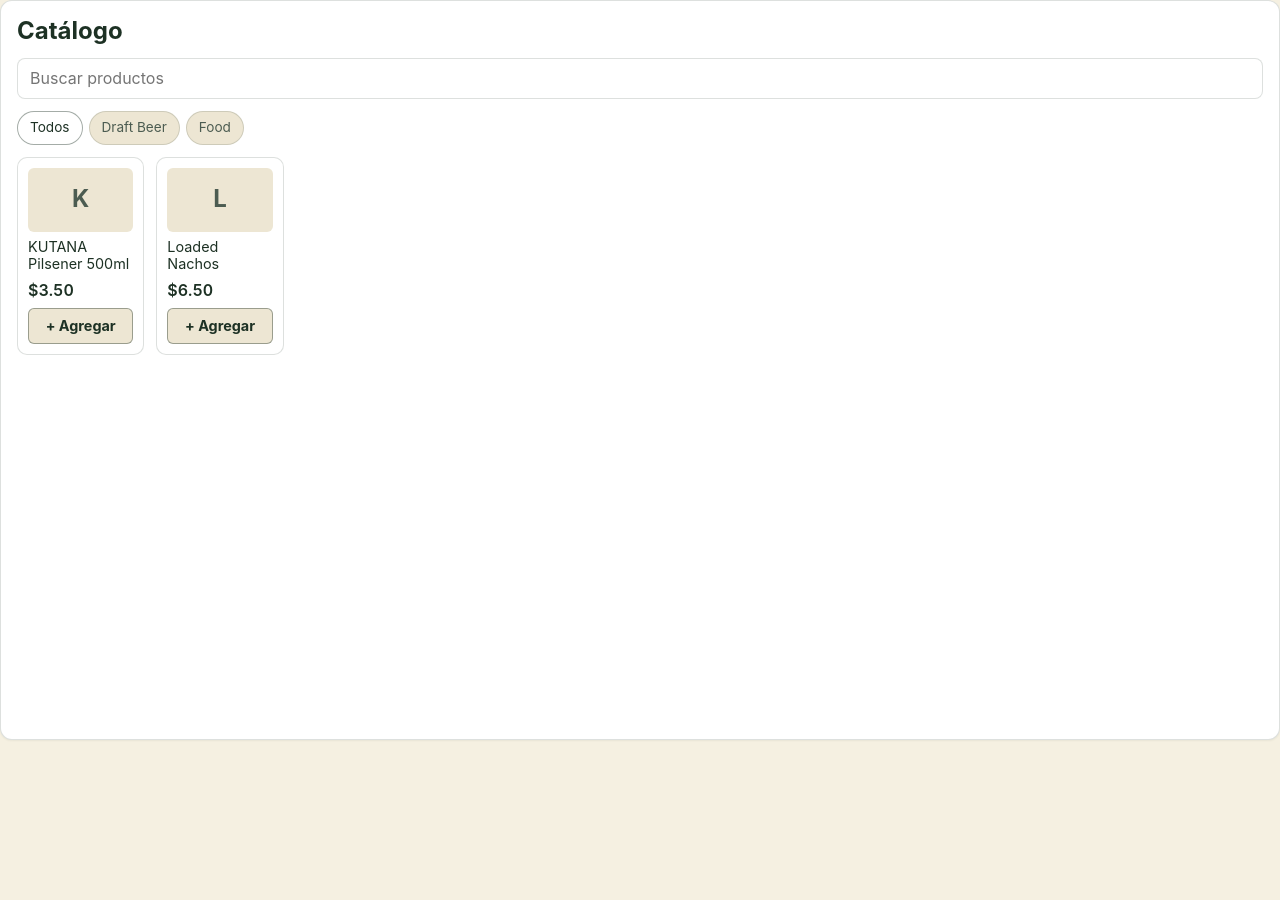
Test: AddItemPanel › narrows the visible product tiles as the search input is typed
In the search field labelled "Buscar productos": (640, 78) [17,58,1263,99], type "nach"
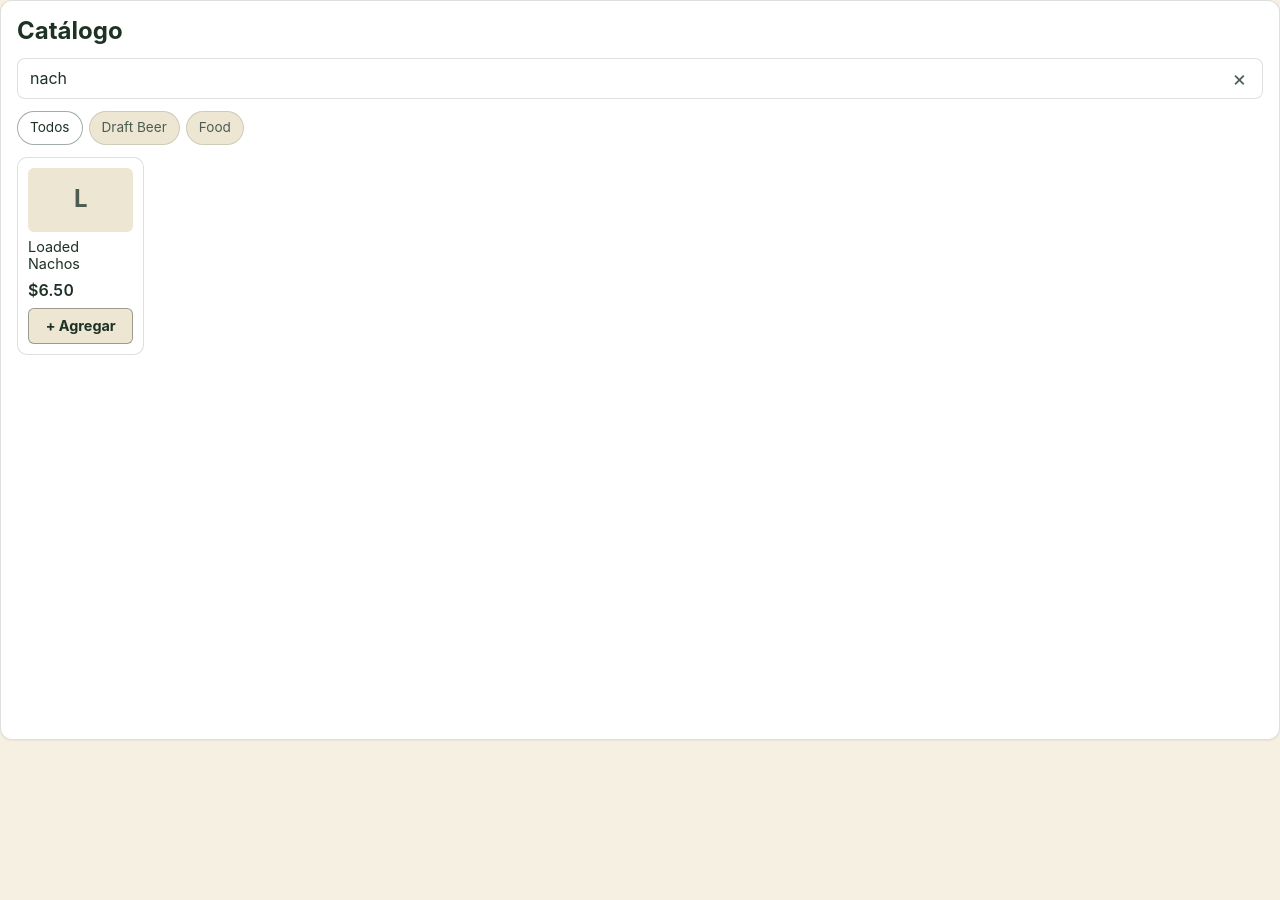
Check: the text "Loaded Nachos" is shown, box [28,238,80,272]
Check: the button "KUTANA Pilsener 500ml" is gone
Replace the text in the search field named "Buscar productos" with "zzz": (640, 78) [17,58,1263,99]
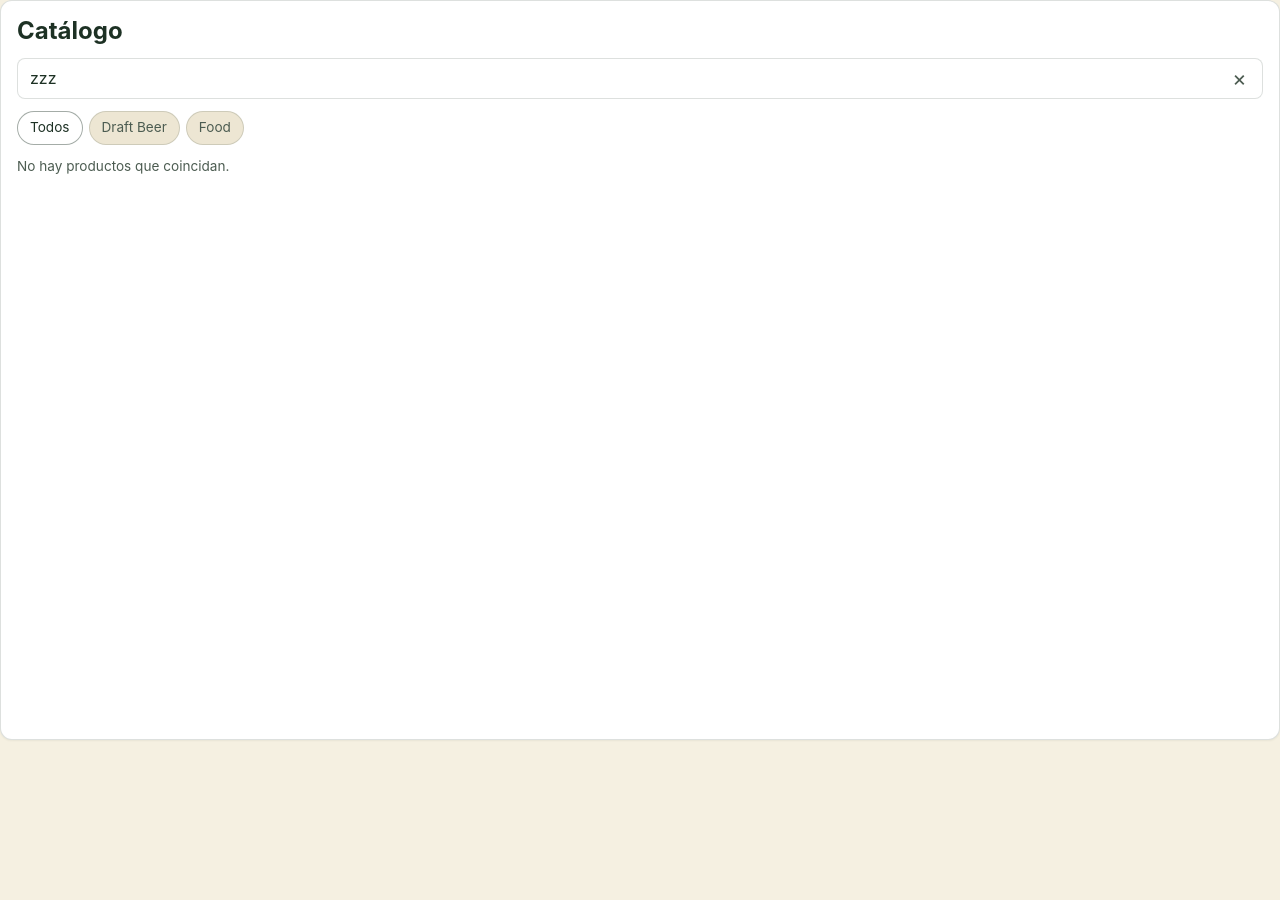
Check: the text "No hay productos que coincidan." is shown, box [17,158,229,174]
